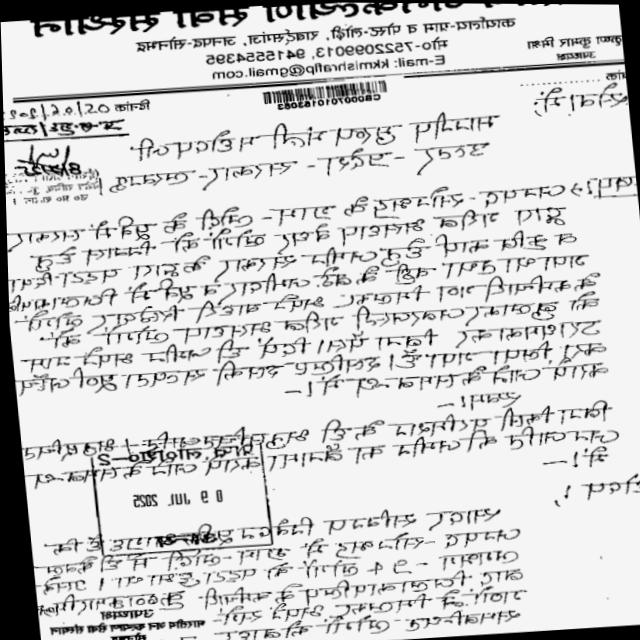afidivitstamp: (0, 0, 625, 104)
antritgovtstamp: (79, 434, 277, 561)
barcode: (256, 73, 391, 115)
signnamestamp: (4, 136, 109, 216)
